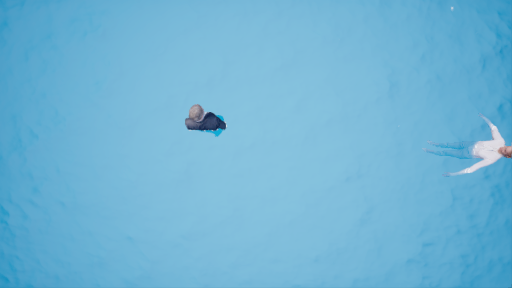person: (424, 114, 512, 173), (184, 97, 233, 144)
